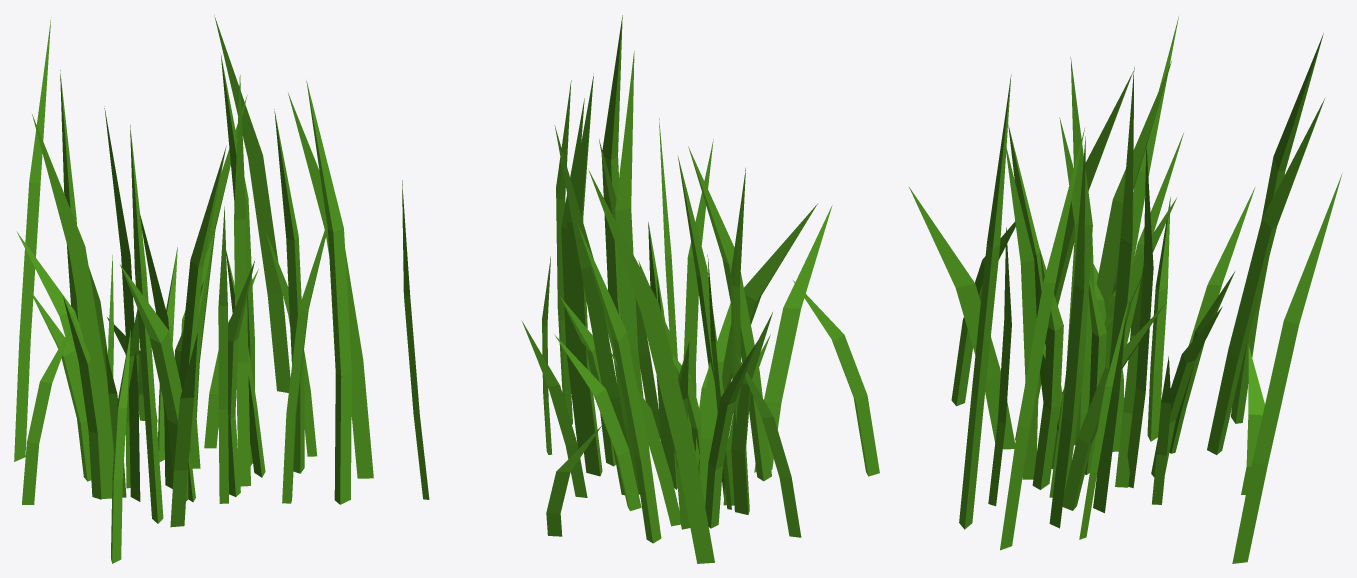
The model's file is Isl_6_Grass_1.fbx.
3 views of the same model, side by side, from view 1: azimuth 30°, elevation 25°; view 2: azimuth 150°, elevation 25°; view 3: azimuth 270°, elevation 25° (orthographic). The views are drawn at different scales.
Parts seen in each view (by area): view 1: Isl_6_Grass_1; view 2: Isl_6_Grass_1; view 3: Isl_6_Grass_1.
Boxes of the visible parts, <box> form: Isl_6_Grass_1: <box>14,15,373,563</box>; Isl_6_Grass_1: <box>402,15,879,563</box>; Isl_6_Grass_1: <box>908,16,1342,563</box>.
Size of the model in its own units: 74.88 by 82.22 by 92.93.
Materials: 1 (1 with a texture image).
